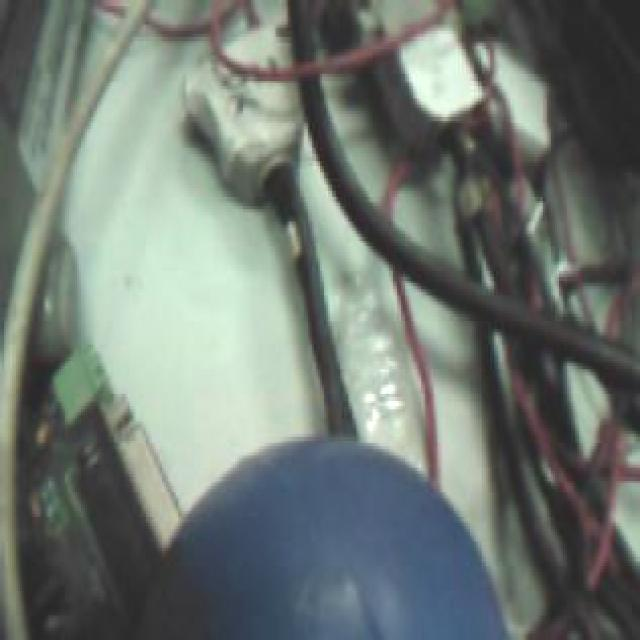BallPurple: (154, 432, 510, 640)
